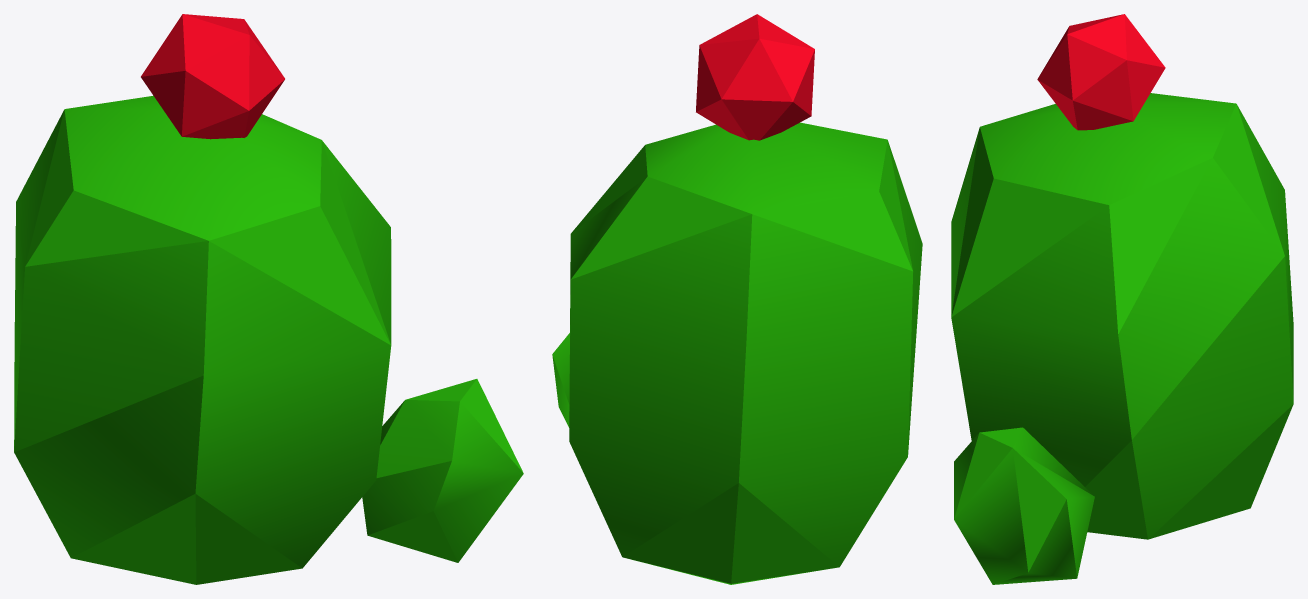
File: cactus.obj
The picture shows the model from 3 angles, left to right: view 1: azimuth 30°, elevation 25°; view 2: azimuth 150°, elevation 25°; view 3: azimuth 270°, elevation 25°; orthographic projection. The views are drawn at different scales.
Visible parts, largest first — view 1: pCylinder1 group1, group1 pasted__pCylinder1, group1 pPlatonic1; view 2: pCylinder1 group1, group1 pPlatonic1, group1 pasted__pCylinder1; view 3: pCylinder1 group1, group1 pasted__pCylinder1, group1 pPlatonic1.
Part boxes in pixels (x1,y1,x2,y2): pCylinder1 group1: (14, 95, 391, 584); group1 pasted__pCylinder1: (362, 379, 523, 562); group1 pPlatonic1: (141, 14, 284, 139); pCylinder1 group1: (569, 122, 922, 584); group1 pPlatonic1: (696, 14, 814, 140); group1 pasted__pCylinder1: (552, 333, 569, 427); pCylinder1 group1: (951, 93, 1293, 539); group1 pasted__pCylinder1: (954, 427, 1094, 584); group1 pPlatonic1: (1037, 14, 1165, 130).
Size of the model in its own units: 0.6864 by 0.877 by 0.5305.
